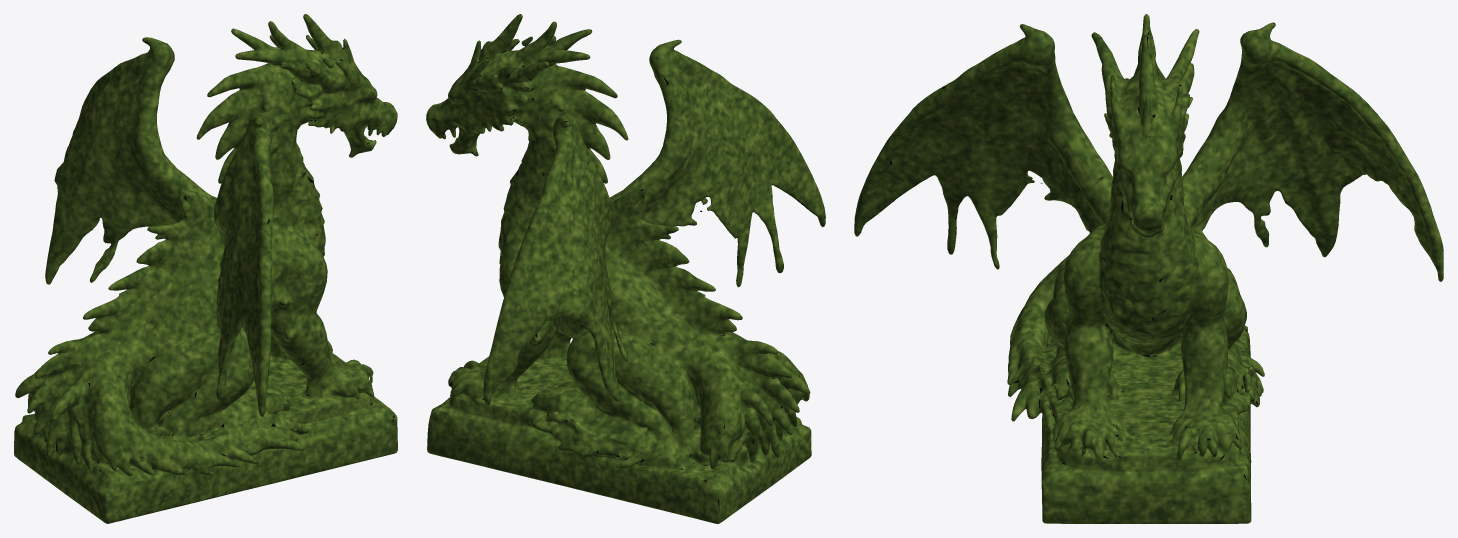
File: dragon-hedge.glb
The picture shows the model from 3 angles, left to right: view 1: azimuth 30°, elevation 25°; view 2: azimuth 150°, elevation 25°; view 3: azimuth 270°, elevation 25°; orthographic projection. The views are drawn at different scales.
Parts seen in each view (by area): view 1: dragon - original generated mesh; view 2: dragon - original generated mesh; view 3: dragon - original generated mesh.
Boxes of the visible parts, x1,y1,x2,y2 form: dragon - original generated mesh: [14, 14, 397, 523]; dragon - original generated mesh: [426, 14, 825, 523]; dragon - original generated mesh: [854, 14, 1443, 523].
Bounding box in the file's own units: 3.67 × 4 × 4.57.
Materials: 1 (1 with a texture image).
